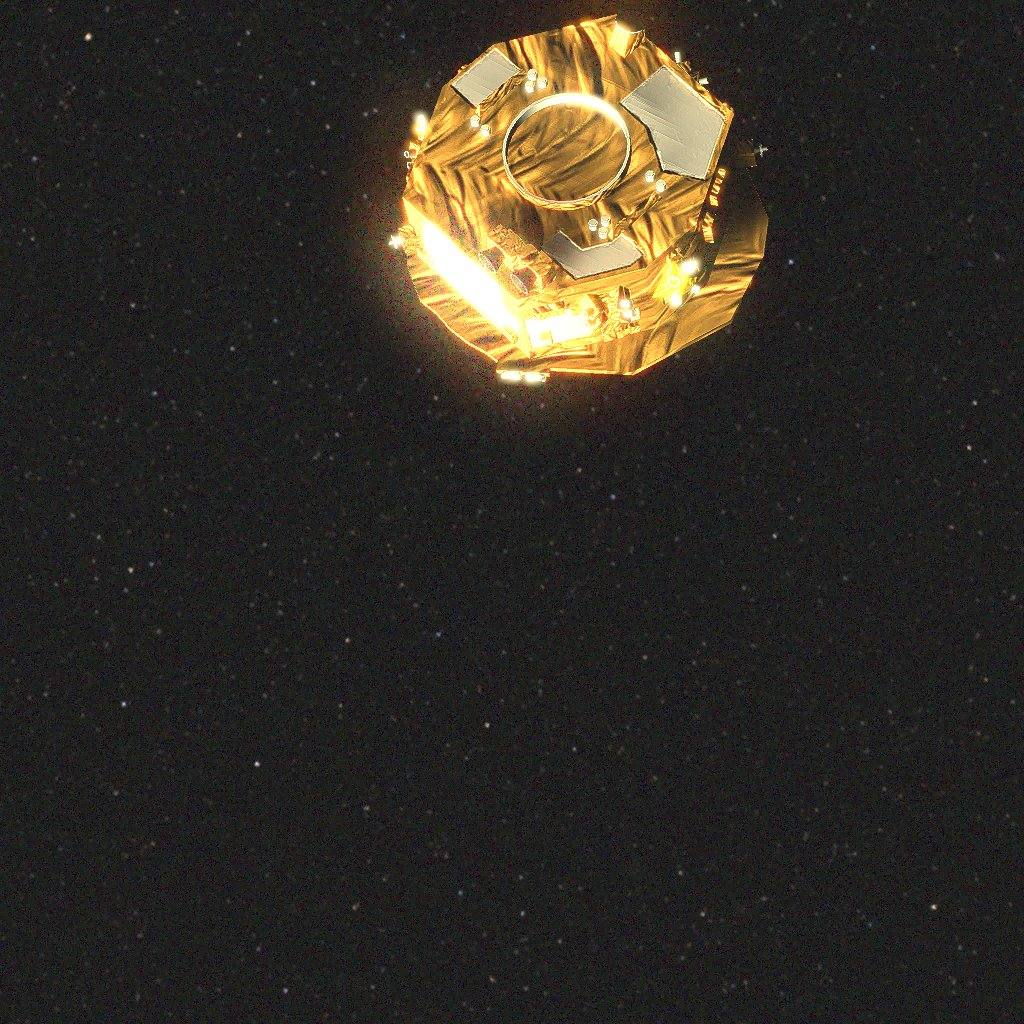lisa_pathfinder: (402, 36, 760, 385)
